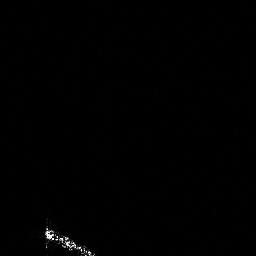ship: (40, 221, 98, 256)
